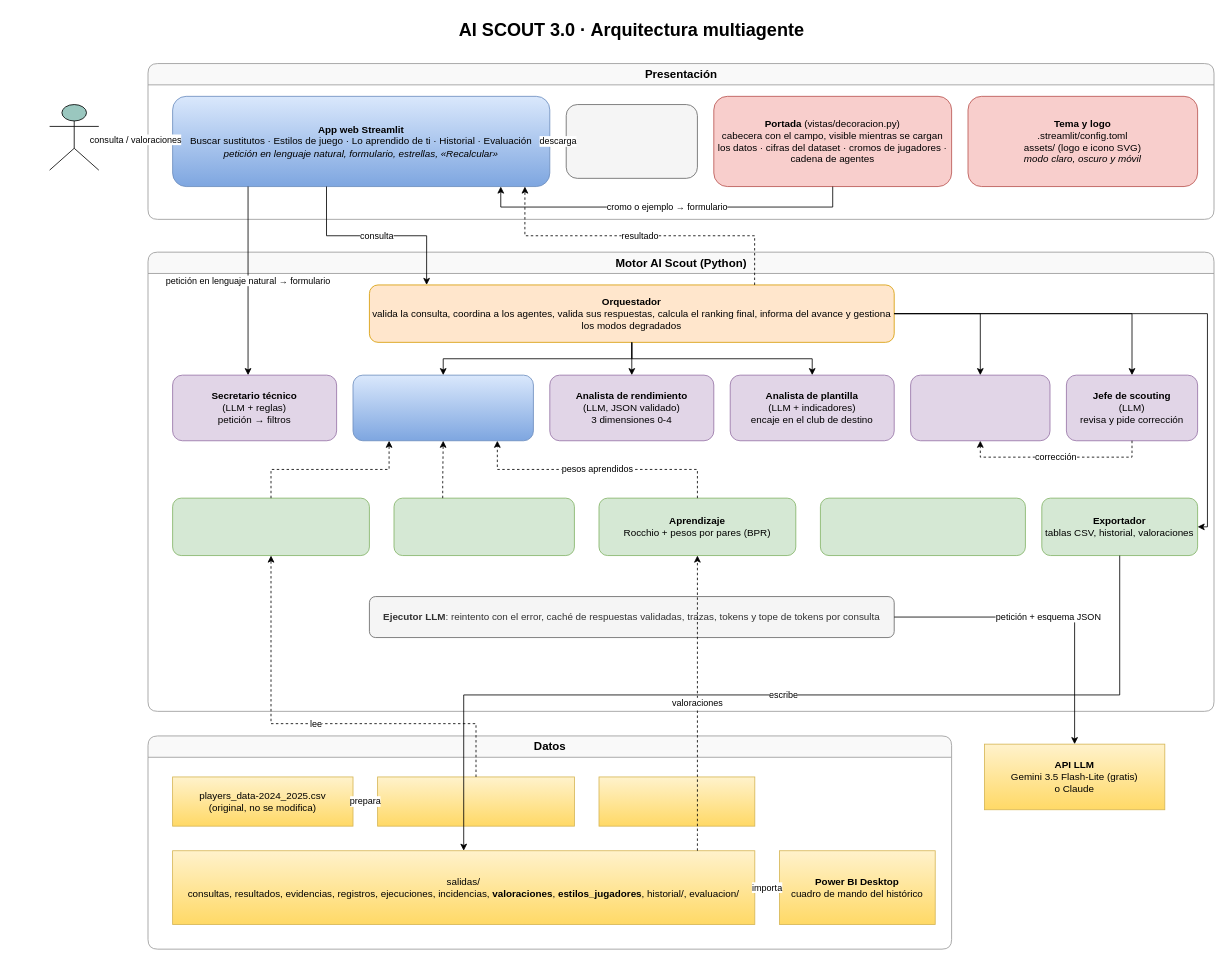
Some shapes in this 1228 by 964 pixel diagram are drawn without their labels. Here are the shapes that lost their labels. From the top down, the centre of each, then its label:
At point 74,137: "Analista / Director deportivo".
At point 631,141: "Informe de ojeador (PDF) Top 10 (CSV)".
At point 442,407: "Ojeador de datos (cálculo) coseno ponderado, Rocchio, MMR → Top 10".
At point 980,407: "Director deportivo (LLM) ficha de ojeador Top 3".
At point 270,526: "Preparación de datos validación, métricas p90, identidades".
At point 483,526: "Estilos de juego k-means + PCA por grupo".
At point 922,526: "Validación y pulido esquemas JSON, cifras, términos, tildes".
At point 475,801: "datos/procesado registros p90, incidencias, manifiesto".
At point 676,801: "datos/cache_llm respuestas validadas".
